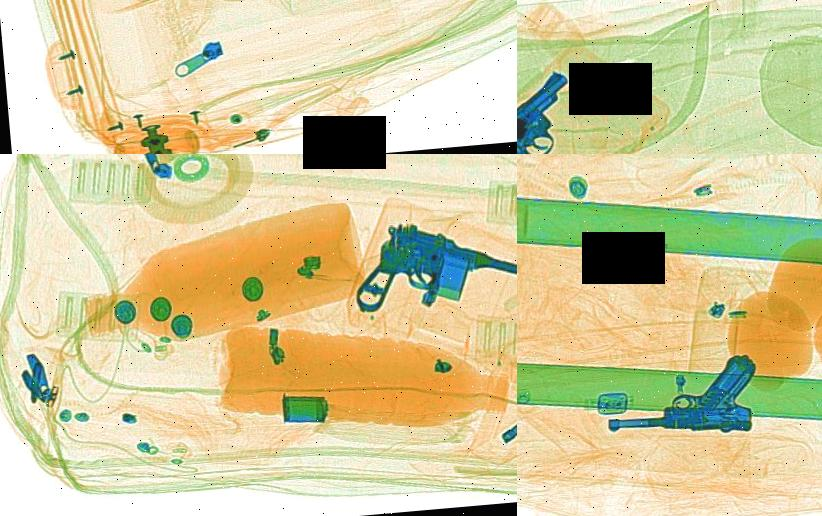Gun: (305, 203, 517, 360), (596, 343, 768, 442), (517, 59, 604, 154), (487, 306, 517, 449)
